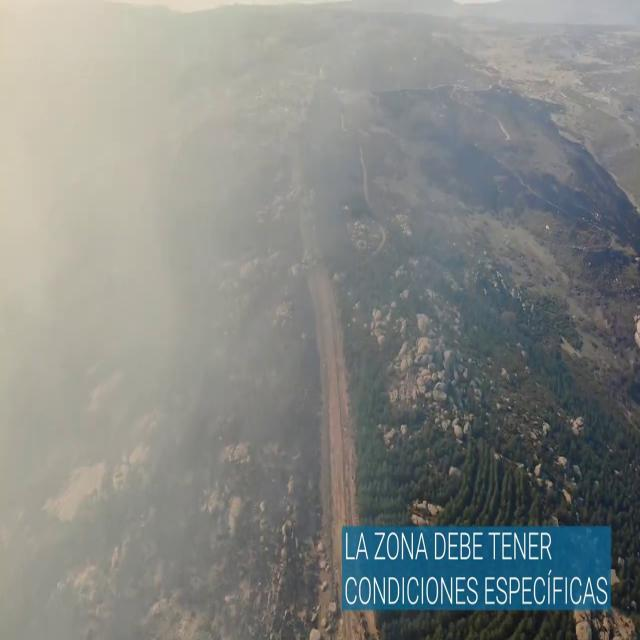Smoke: (2, 2, 354, 621)
